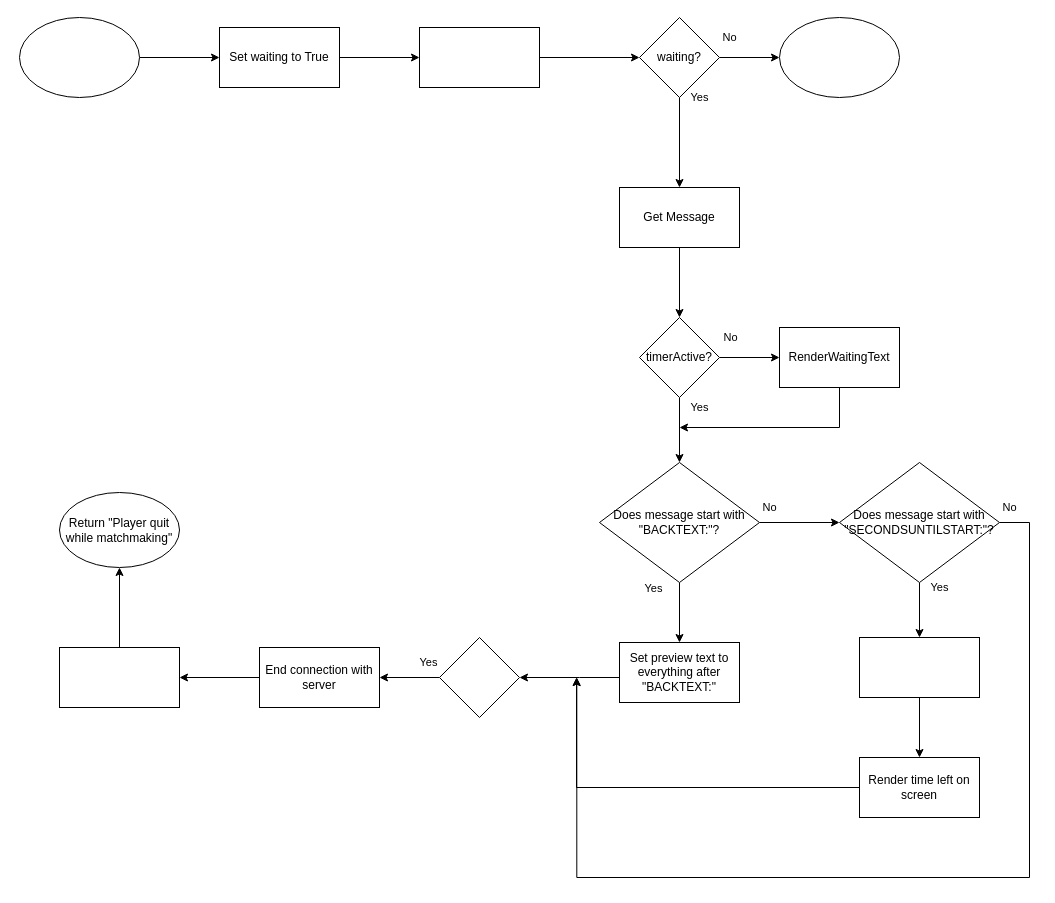
This 1055x903 diagram has some shape labels left out. The centre of each missing label's shape, as x and y in pixels:
"End" belongs at point 839,57.
"Game.__GetBackText() called" belongs at point 79,57.
"Has user quit?" belongs at point 479,677.
"Set timerActive to false" belongs at point 479,57.
"set timerActive to True" belongs at point 919,667.
"set waiting to false" belongs at point 119,677.
